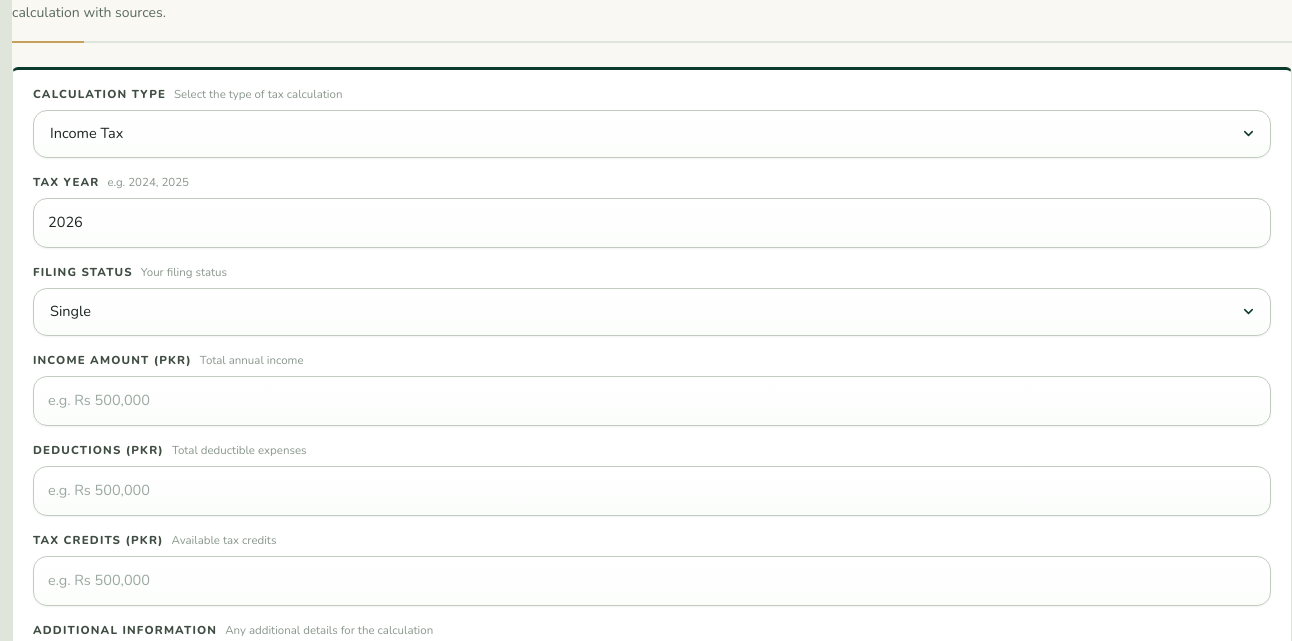
CalculatorPage › shows a live cap hint when income exceeds 1 trillion, and blocks submit with an error
This screenshot has width=1292, height=641.
Below the cap: no hint.
Type "999000000" into the number field with test id "income-input".
click(652, 401); type("999000000")  # box [48,377,1256,425]
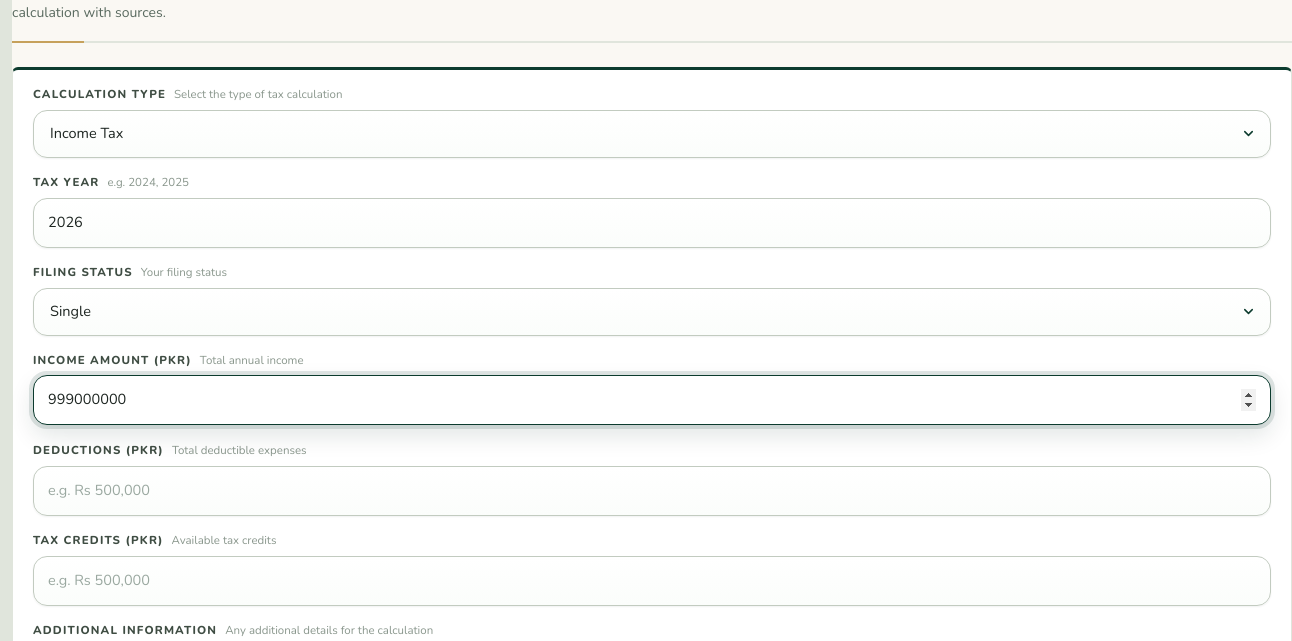
Above the cap: hint appears immediately, before submitting.
Replace the text in the number field with test id "income-input" with "1000000000001" at (652, 400), box [48,376,1256,424]
(page scrolled)
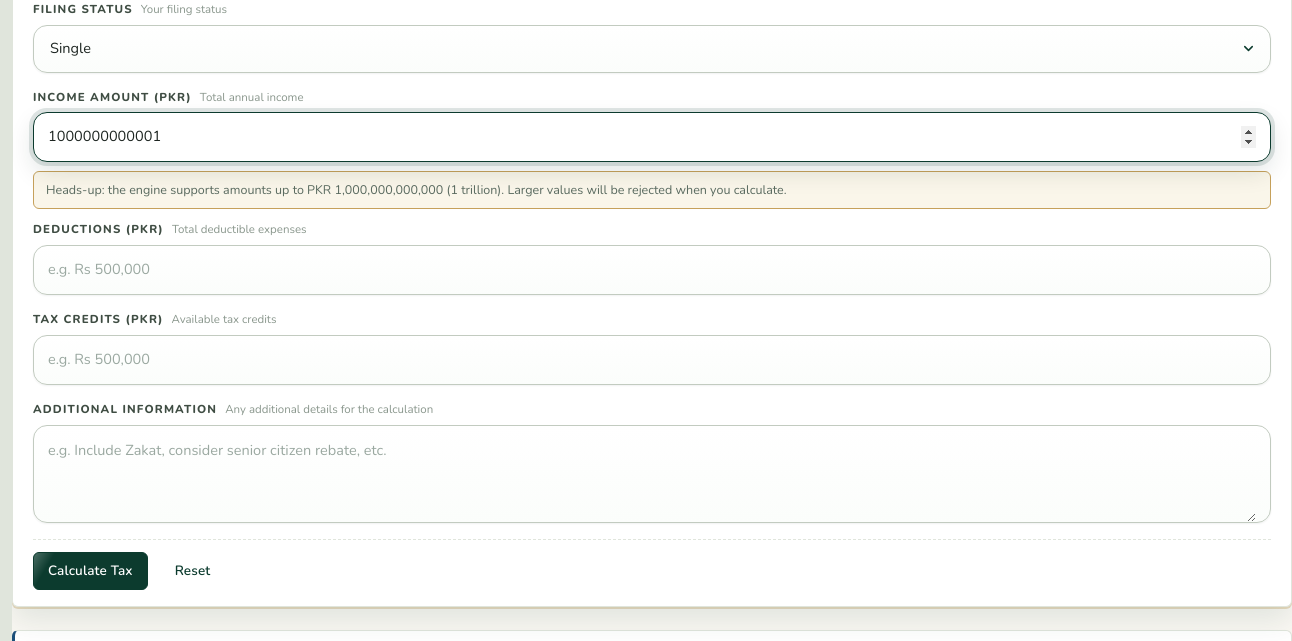
Check: the message with test id "income-cap-hint" is shown, box [33,171,1271,209]
Submitting shows a field error instead of calling the API.
Click the button with test id "calculate-button".
click(90, 571)  # box [33,552,148,590]
(page scrolled)
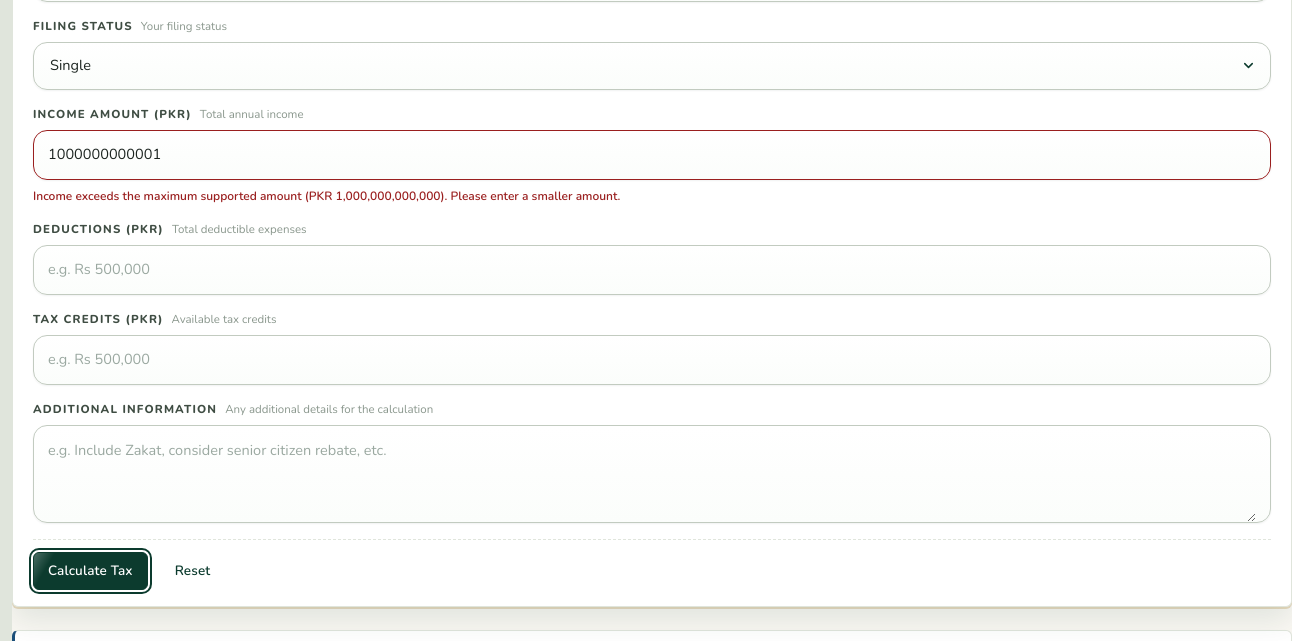
Check: the text "exceeds the maximum supported amount" is shown, box [33,188,620,204]
